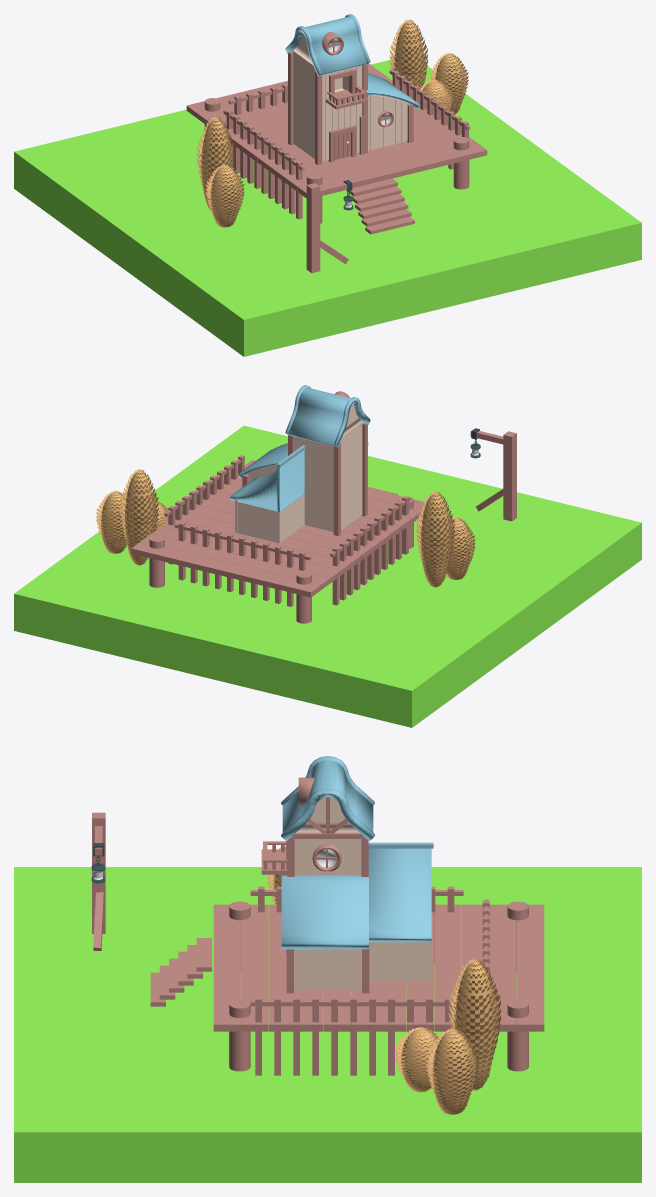
File: domik6.fbx
3 renders of one model, top to bottom at view 1: azimuth 30°, elevation 25°; view 2: azimuth 150°, elevation 25°; view 3: azimuth 270°, elevation 25°, orthographic. The views are drawn at different scales.
Visible parts, largest first — view 1: Cube; view 2: Cube; view 3: Cube.
Boxes of the visible parts, box(x1,y1,x2,y2) form: Cube: box(14, 14, 641, 356); Cube: box(14, 385, 641, 727); Cube: box(14, 756, 641, 1182).
Bounding box in the file's own units: 797 × 388 × 797.
